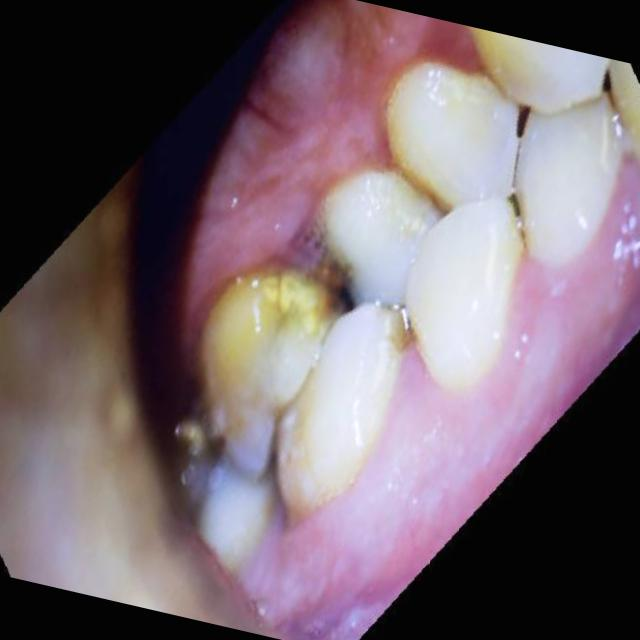calculus: (184, 256, 354, 429)
